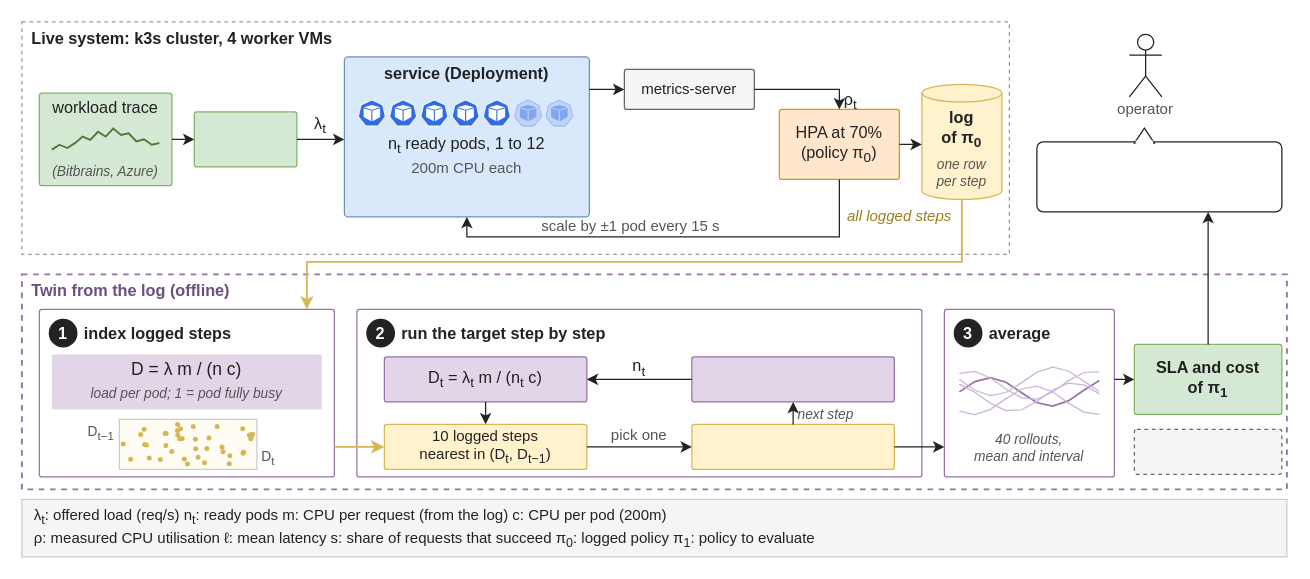
Some shapes in this 1310 by 579 pixel diagram are drawn without their labels. The centre of each missing label's shape, as x and y in pixels:
checked against live runs of π 1: point 1207,451
load generator: point 245,139
their ρ, ℓ, s: point 792,446
Would a new policy π 1 meet the SLA? At what cost?: point 1159,176
π 1 , its own code: point 792,379
